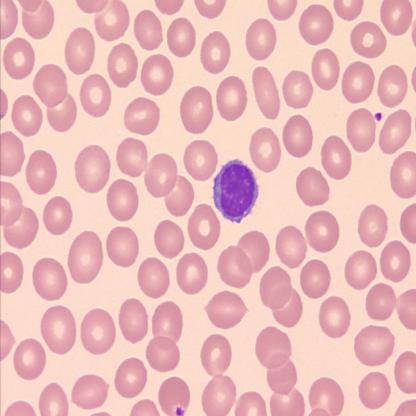Lymphocyte: (211, 157, 260, 225)
